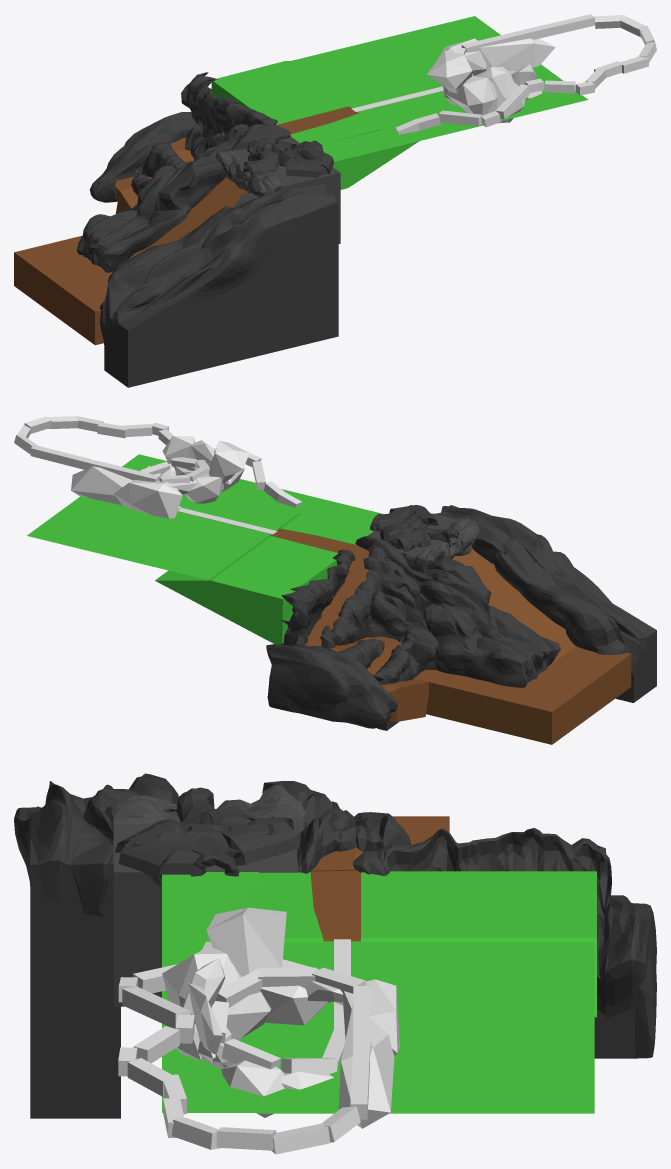
The model's file is deneme2.fbx.
3 views of the same model, one above another, from view 1: azimuth 30°, elevation 25°; view 2: azimuth 150°, elevation 25°; view 3: azimuth 270°, elevation 25° (orthographic). The views are drawn at different scales.
Parts seen in each view (by area): view 1: Cube.045, Plane, Cube.025, Cube.041, Plane.002, Cube.040, Cube.023, Cube.030, Cube.024, Icosphere.008, Cube.008, Icosphere.011 (+4 smaller); view 2: Cube.045, Plane, Cube.041, Cube.025, Cube.026, Plane.002, Cube.024, Cube.030, Cube.023, Icosphere.007, Icosphere.008, Cube.029 (+8 smaller); view 3: Cube.045, Plane, Cube.041, Cube.023, Cube.030, Plane.002, Icosphere.009, Cube.040, Cube.032, Icosphere.008, Cube.008, Icosphere.005 (+25 smaller).
Part boxes in pixels (x1=…): Cube.045: x1=76, y1=72, x2=338, y2=387; Plane: x1=289, y1=16, x2=563, y2=125; Cube.025: x1=14, y1=242, x2=113, y2=345; Cube.041: x1=211, y1=61, x2=350, y2=124; Plane.002: x1=317, y1=86, x2=588, y2=161; Cube.040: x1=290, y1=113, x2=419, y2=189; Cube.023: x1=215, y1=137, x2=340, y2=243; Cube.030: x1=242, y1=138, x2=334, y2=177; Cube.024: x1=128, y1=177, x2=247, y2=259; Icosphere.008: x1=475, y1=38, x2=555, y2=76; Cube.008: x1=461, y1=14, x2=595, y2=52; Icosphere.011: x1=445, y1=76, x2=497, y2=115; Cube.045: x1=266, y1=505, x2=656, y2=730; Plane: x1=27, y1=494, x2=293, y2=579; Cube.041: x1=155, y1=536, x2=337, y2=644; Cube.025: x1=499, y1=646, x2=631, y2=744; Cube.026: x1=414, y1=669, x2=527, y2=734; Plane.002: x1=122, y1=454, x2=384, y2=534; Cube.024: x1=452, y1=548, x2=575, y2=665; Cube.030: x1=370, y1=505, x2=458, y2=552; Cube.023: x1=367, y1=513, x2=479, y2=572; Icosphere.007: x1=114, y1=480, x2=182, y2=518; Icosphere.008: x1=71, y1=466, x2=133, y2=505; Cube.029: x1=307, y1=555, x2=368, y2=645; Cube.045: x1=14, y1=773, x2=656, y2=1118; Plane: x1=259, y1=941, x2=594, y2=1113; Cube.041: x1=361, y1=871, x2=596, y2=1017; Cube.023: x1=104, y1=785, x2=306, y2=1006; Cube.030: x1=115, y1=787, x2=298, y2=885; Plane.002: x1=162, y1=872, x2=258, y2=1112; Icosphere.009: x1=206, y1=907, x2=286, y2=976; Cube.040: x1=241, y1=872, x2=323, y2=942; Cube.032: x1=310, y1=870, x2=360, y2=941; Icosphere.008: x1=338, y1=1003, x2=394, y2=1128; Cube.008: x1=350, y1=986, x2=370, y2=1119; Icosphere.005: x1=260, y1=959, x2=327, y2=1025.
Size of the model in its own units: 2840 by 905 by 1420.
